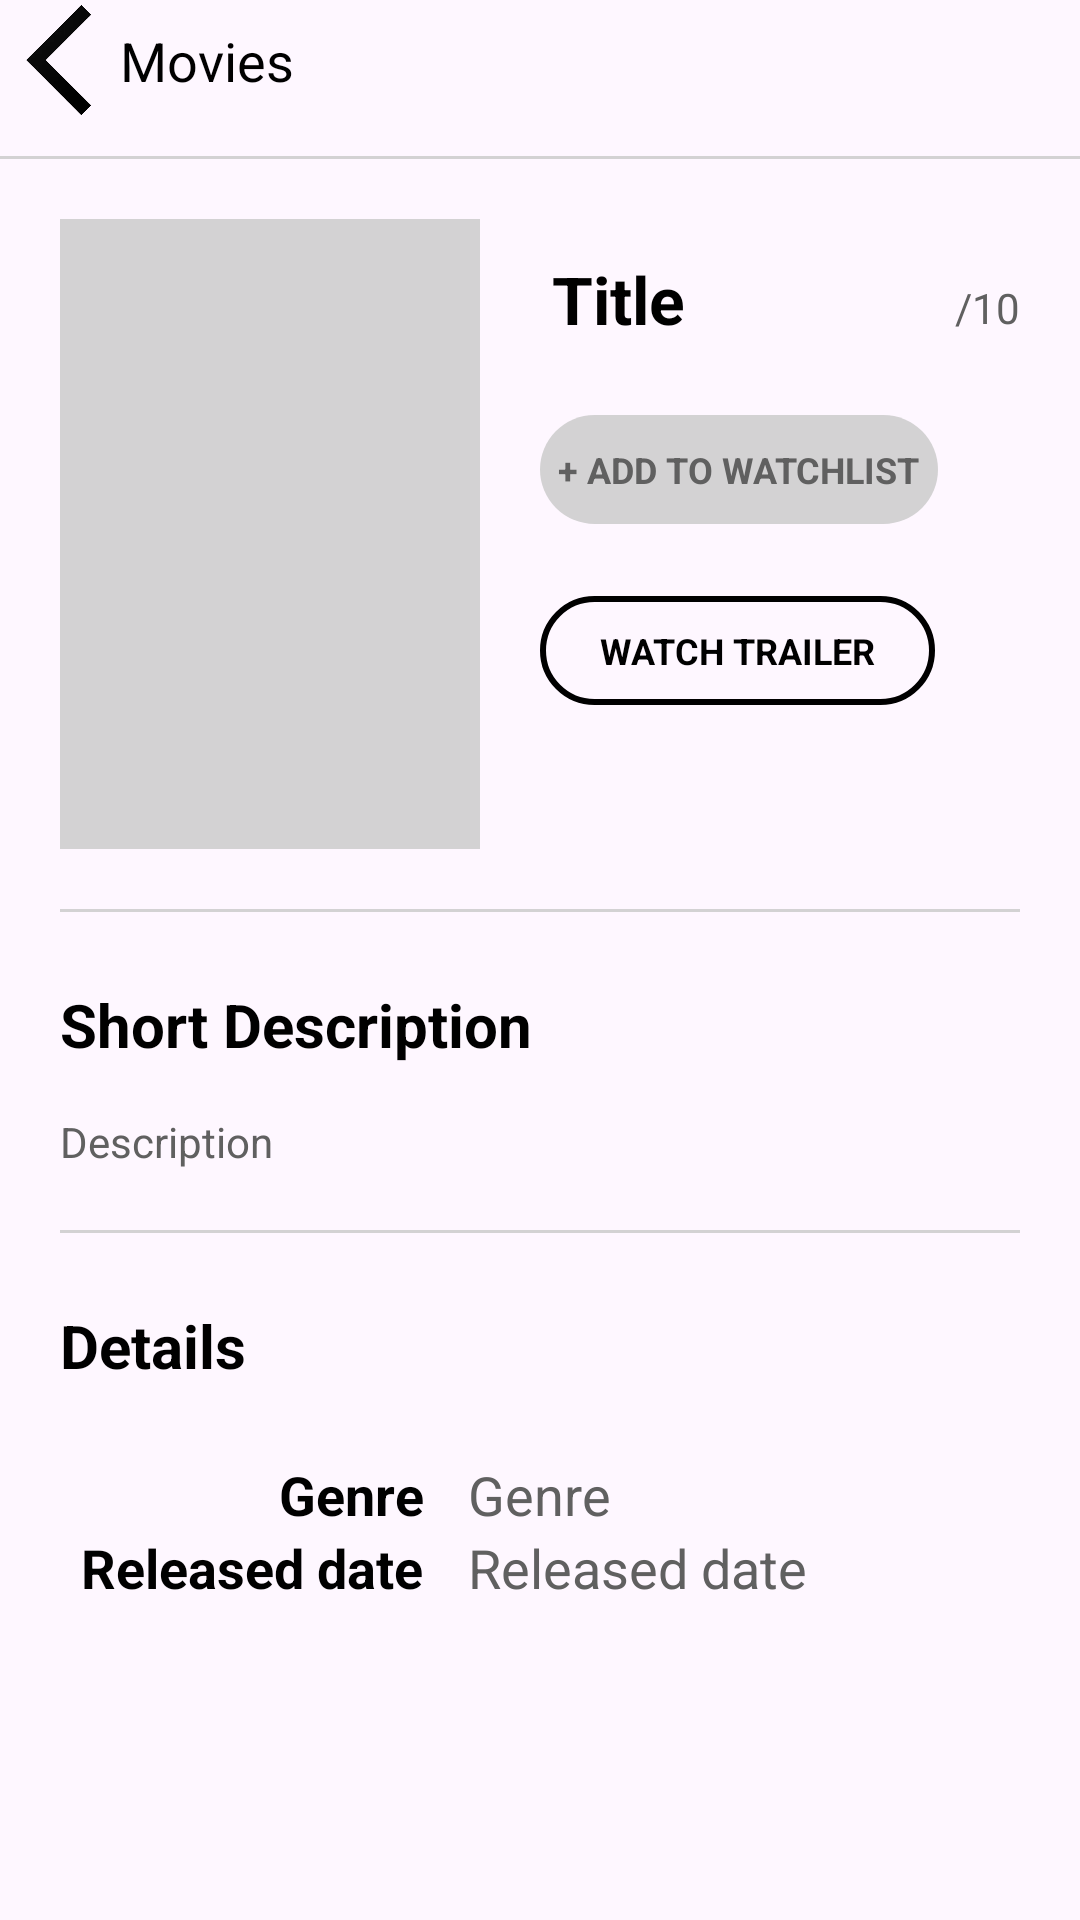

Point at icon controls on the screen. Image size 1080 × 1920, points as (x,y).
Close movie details: (58,60)
